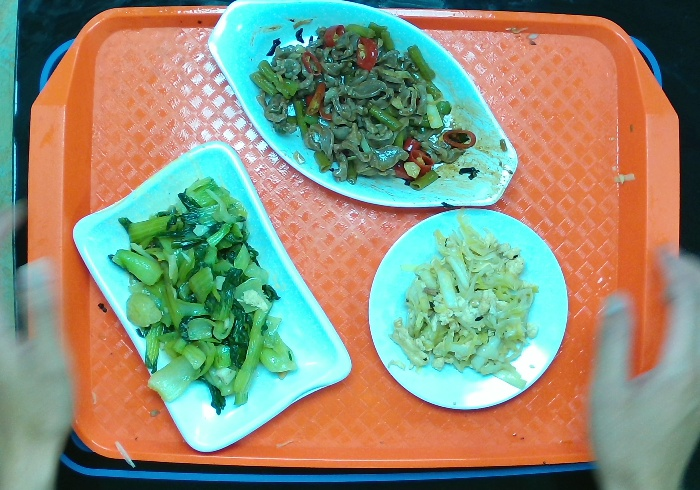RJxy-Si_Fang_Ao_Bian_Wan: (72, 141, 354, 455)
RJxy-Xiao_Yuan_Die: (365, 203, 571, 412)
RJxy-Yu_Pan: (205, 1, 519, 207)
